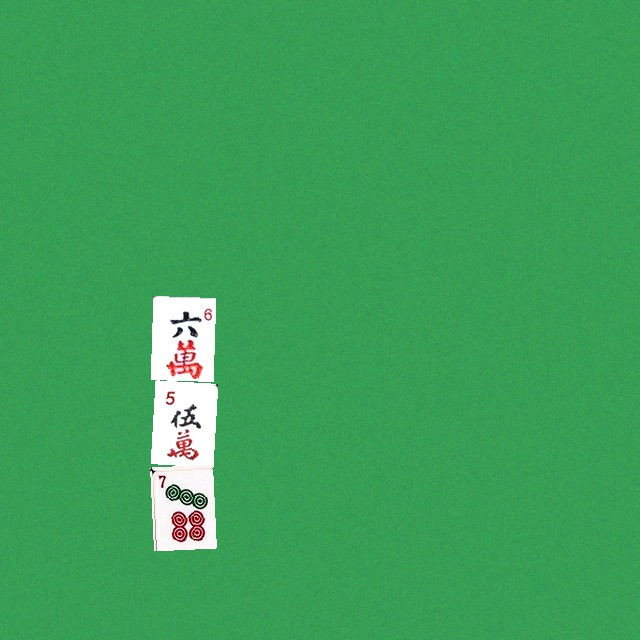tile: (150, 296, 213, 380), (150, 380, 213, 464), (150, 464, 213, 548)
